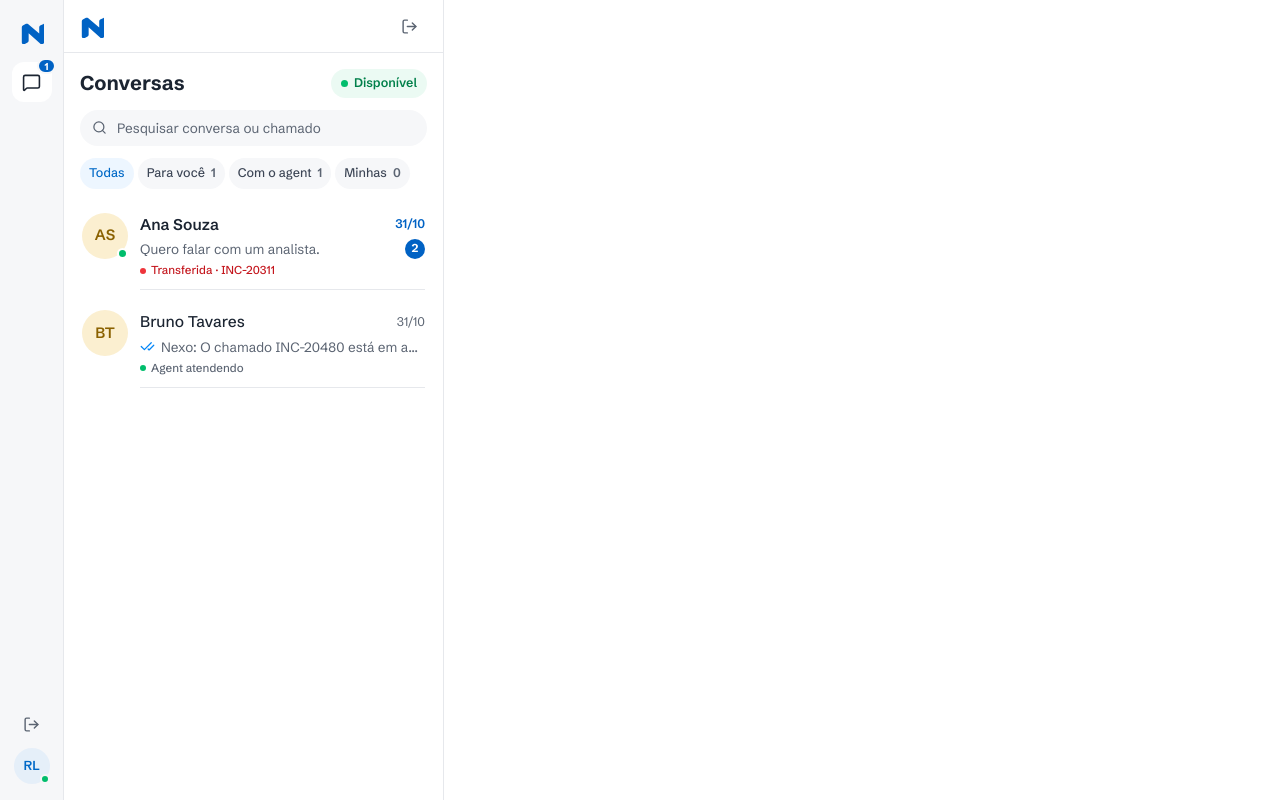
Test: console do analista (tela 4) › 10.6: no celular, uma coluna por vez, com volta para a lista
The width and height of the screenshot is (1280, 800).
What coordinates should you click on to do the following:
click the button "Ana Souza"
I would click on:
 (254, 251)
Its box is [72, 202, 435, 300].
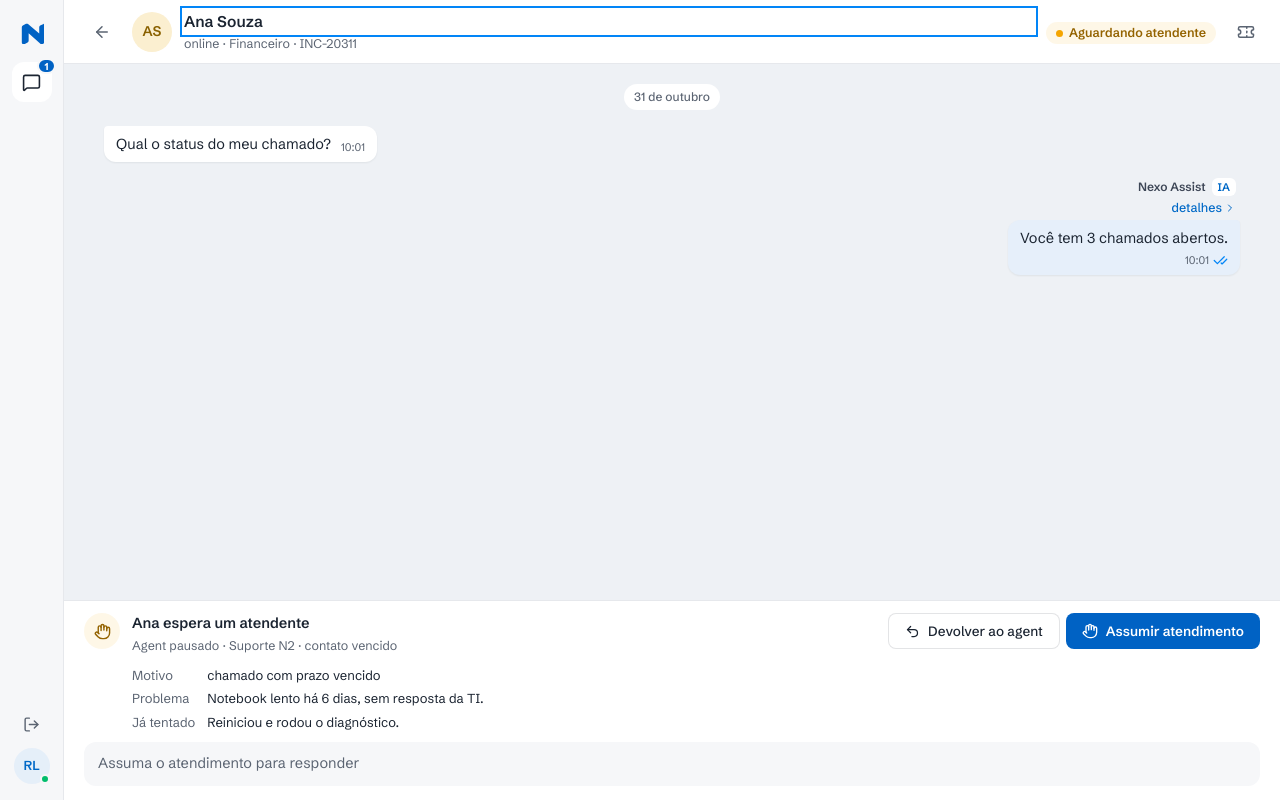
What coordinates should you click on to do the following:
click the button named "Voltar para as conversas"
I would click on:
 (102, 32)
Its box is [84, 14, 120, 50].
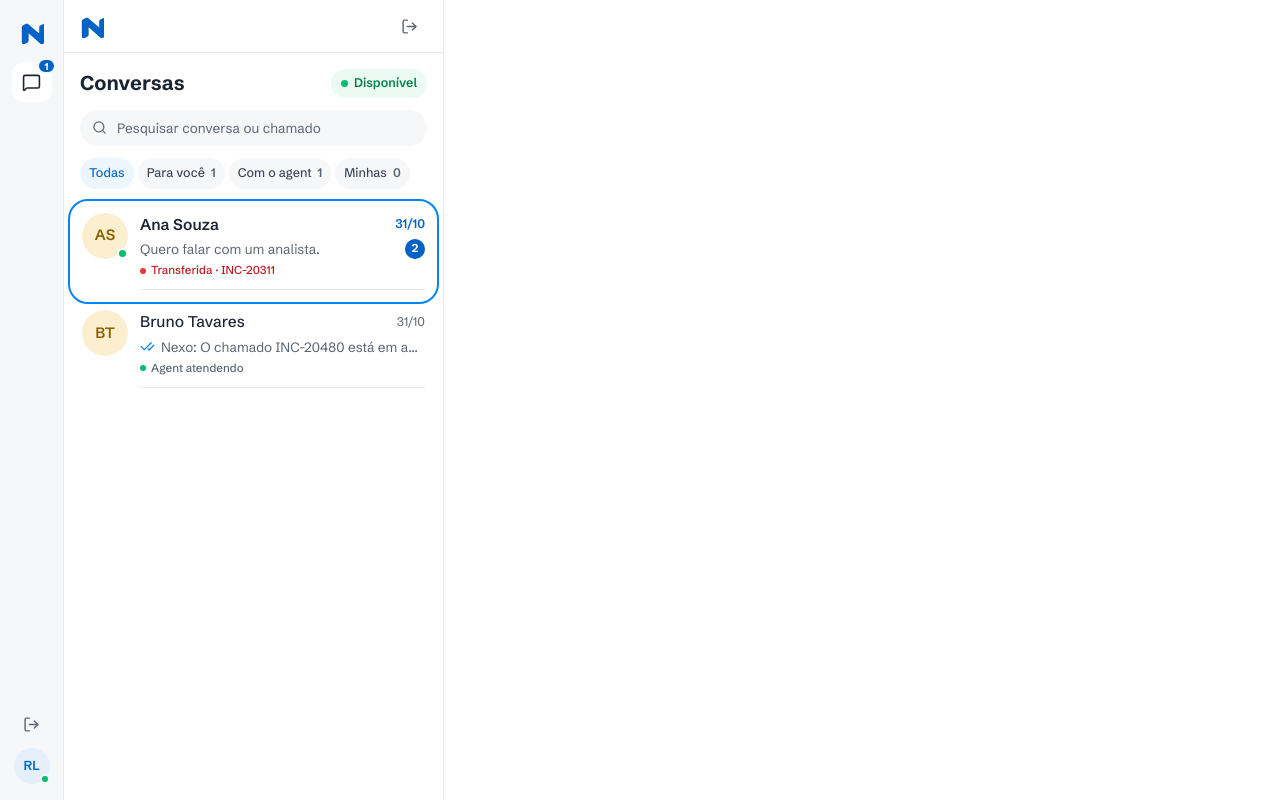
Check: the list named "Conversas" is shown, box [72, 202, 435, 398]
